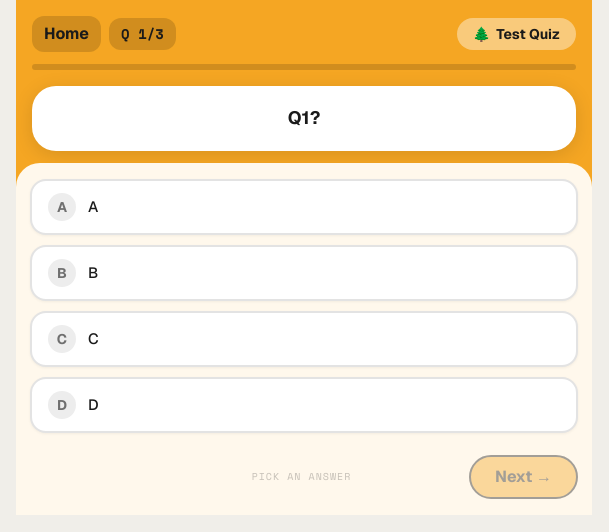
Test: QuizPlayer › marks a correct pick green and disables the options
Click the button with test id "option" at [62, 273], box [30,245,578,301]
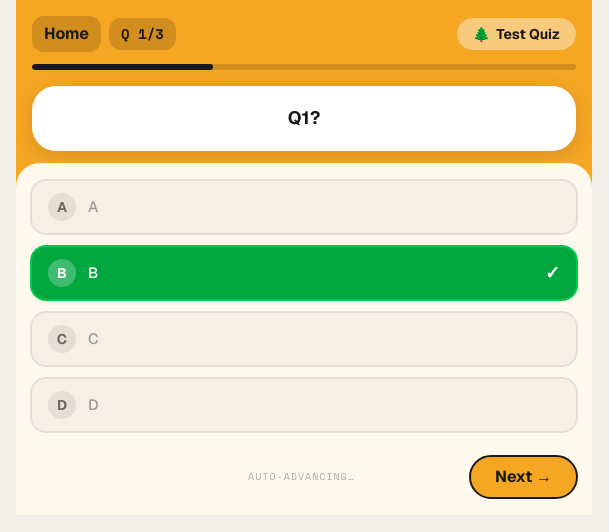
Check: the button with test id "option" is disabled, box [30,179,578,235]
